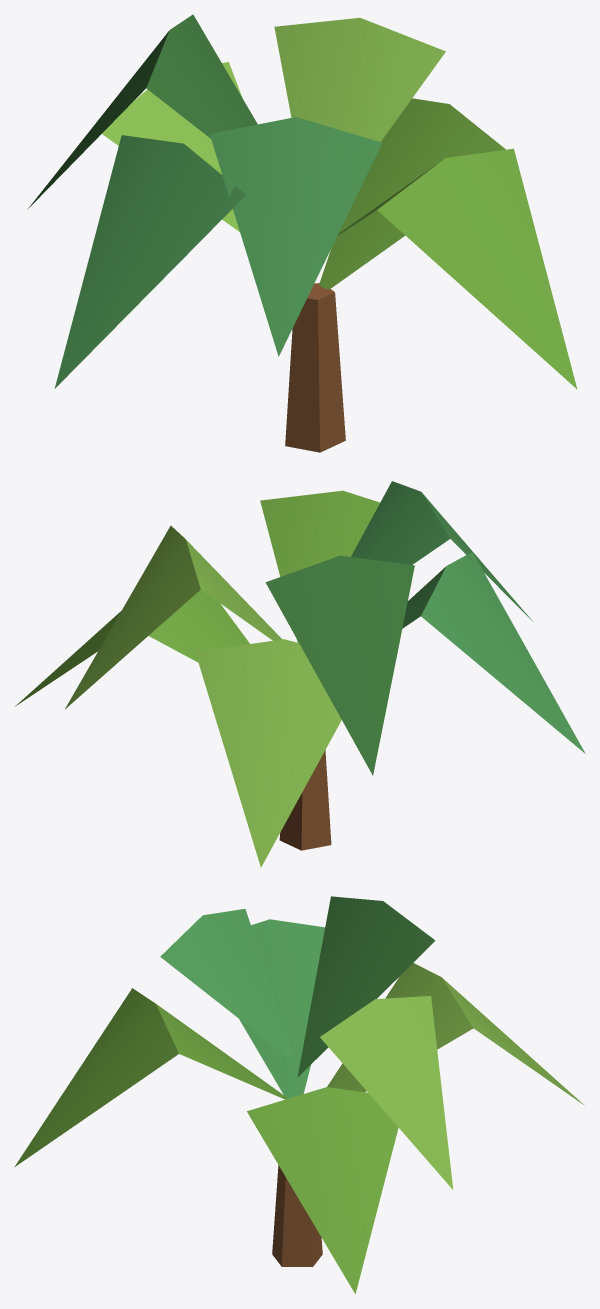
The model's file is terrarium_leaf_big.glb.
The picture shows the model from 3 angles, top to bottom: view 1: azimuth 30°, elevation 25°; view 2: azimuth 150°, elevation 25°; view 3: azimuth 270°, elevation 25°; orthographic projection. The views are drawn at different scales.
Visible parts, largest first — view 1: terrarium_leaf_big; view 2: terrarium_leaf_big; view 3: terrarium_leaf_big.
Boxes of the visible parts, bbox=[...] form: terrarium_leaf_big: bbox=[27, 14, 577, 452]; terrarium_leaf_big: bbox=[15, 481, 585, 867]; terrarium_leaf_big: bbox=[14, 896, 584, 1294].
Bounding box in the file's own units: 1.91 × 1.19 × 1.93.
1 material, 1 textured.
